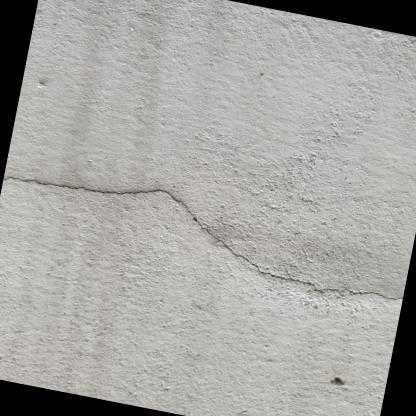crack: (2, 177, 402, 299)
